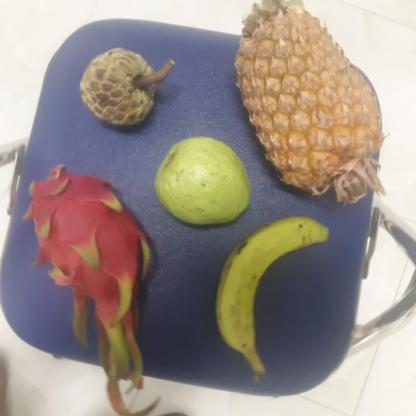annona: (77, 48, 161, 129)
banana: (215, 217, 327, 349)
guava: (150, 136, 250, 224)
pineapple: (234, 8, 377, 202)
pitaya: (25, 168, 154, 342)
